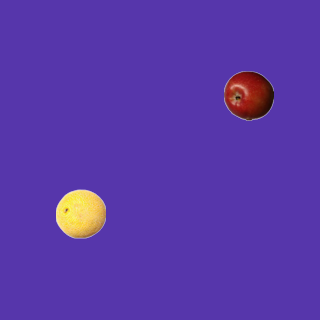Apple Braeburn: (223, 70, 273, 120)
Cantaloupe 1: (55, 188, 105, 238)
